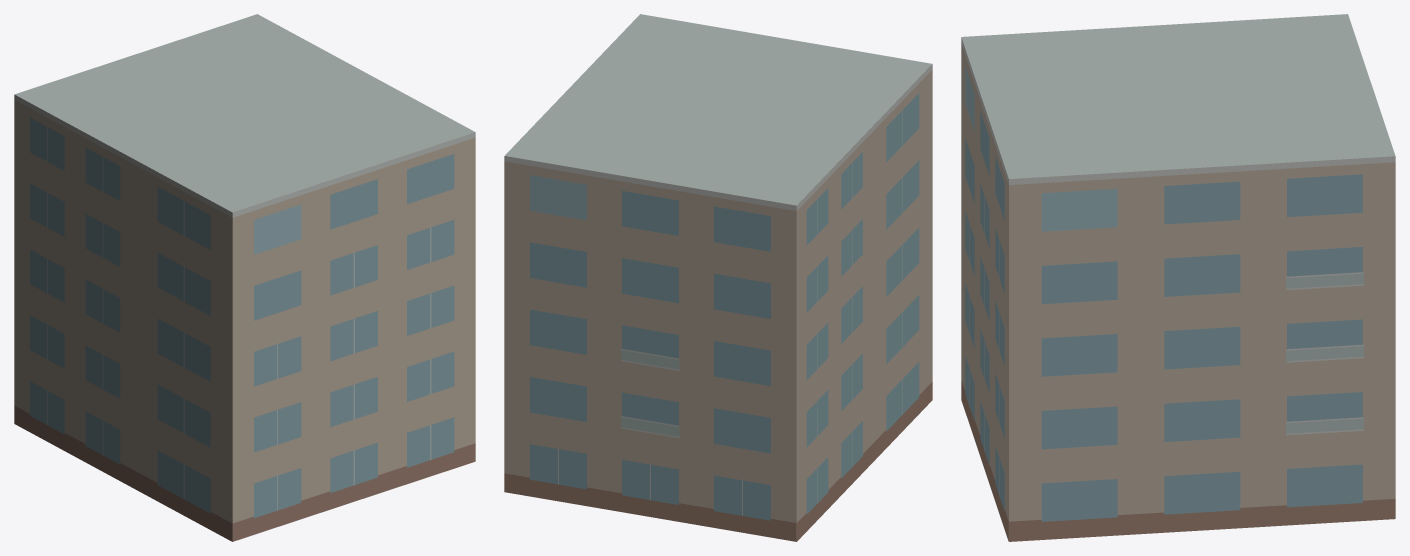
Rendered from survey-upis-32998450.glb.
3 views of the same model, side by side, from view 1: azimuth 30°, elevation 25°; view 2: azimuth 150°, elevation 25°; view 3: azimuth 270°, elevation 25° (orthographic). The views are drawn at different scales.
Visible parts, largest first — view 1: survey-upis-32998450.tmp; view 2: survey-upis-32998450.tmp; view 3: survey-upis-32998450.tmp.
Boxes of the visible parts, box(x1,y1,x2,y2) form: survey-upis-32998450.tmp: box(14, 14, 475, 541); survey-upis-32998450.tmp: box(504, 14, 932, 541); survey-upis-32998450.tmp: box(961, 14, 1395, 541).
Bounding box in the file's own units: 14.56 × 14.9 × 16.18.
